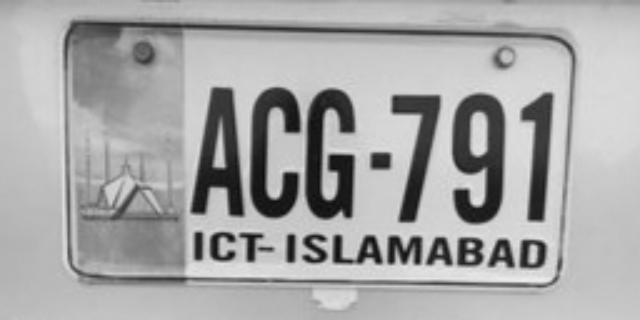Number: (189, 77, 557, 226)
